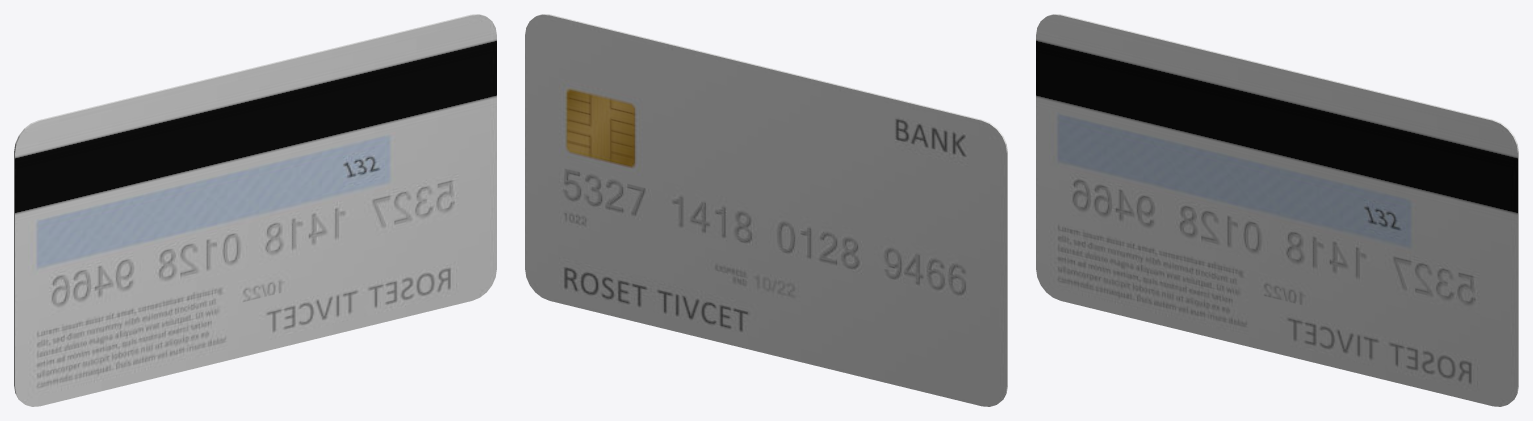
File: CreditCard(white).fbx
3 views of the same model, side by side, from view 1: azimuth 30°, elevation 25°; view 2: azimuth 150°, elevation 25°; view 3: azimuth 330°, elevation 25° (orthographic).
Parts seen in each view (by area): view 1: Credit Card; view 2: Credit Card; view 3: Credit Card.
Part boxes in pixels (<box>): Credit Card: <box>14,14,496,406</box>; Credit Card: <box>525,14,1007,406</box>; Credit Card: <box>1036,14,1518,406</box>.
Size of the model in its own units: 305 by 173 by 1.21.
1 material, 1 textured.
